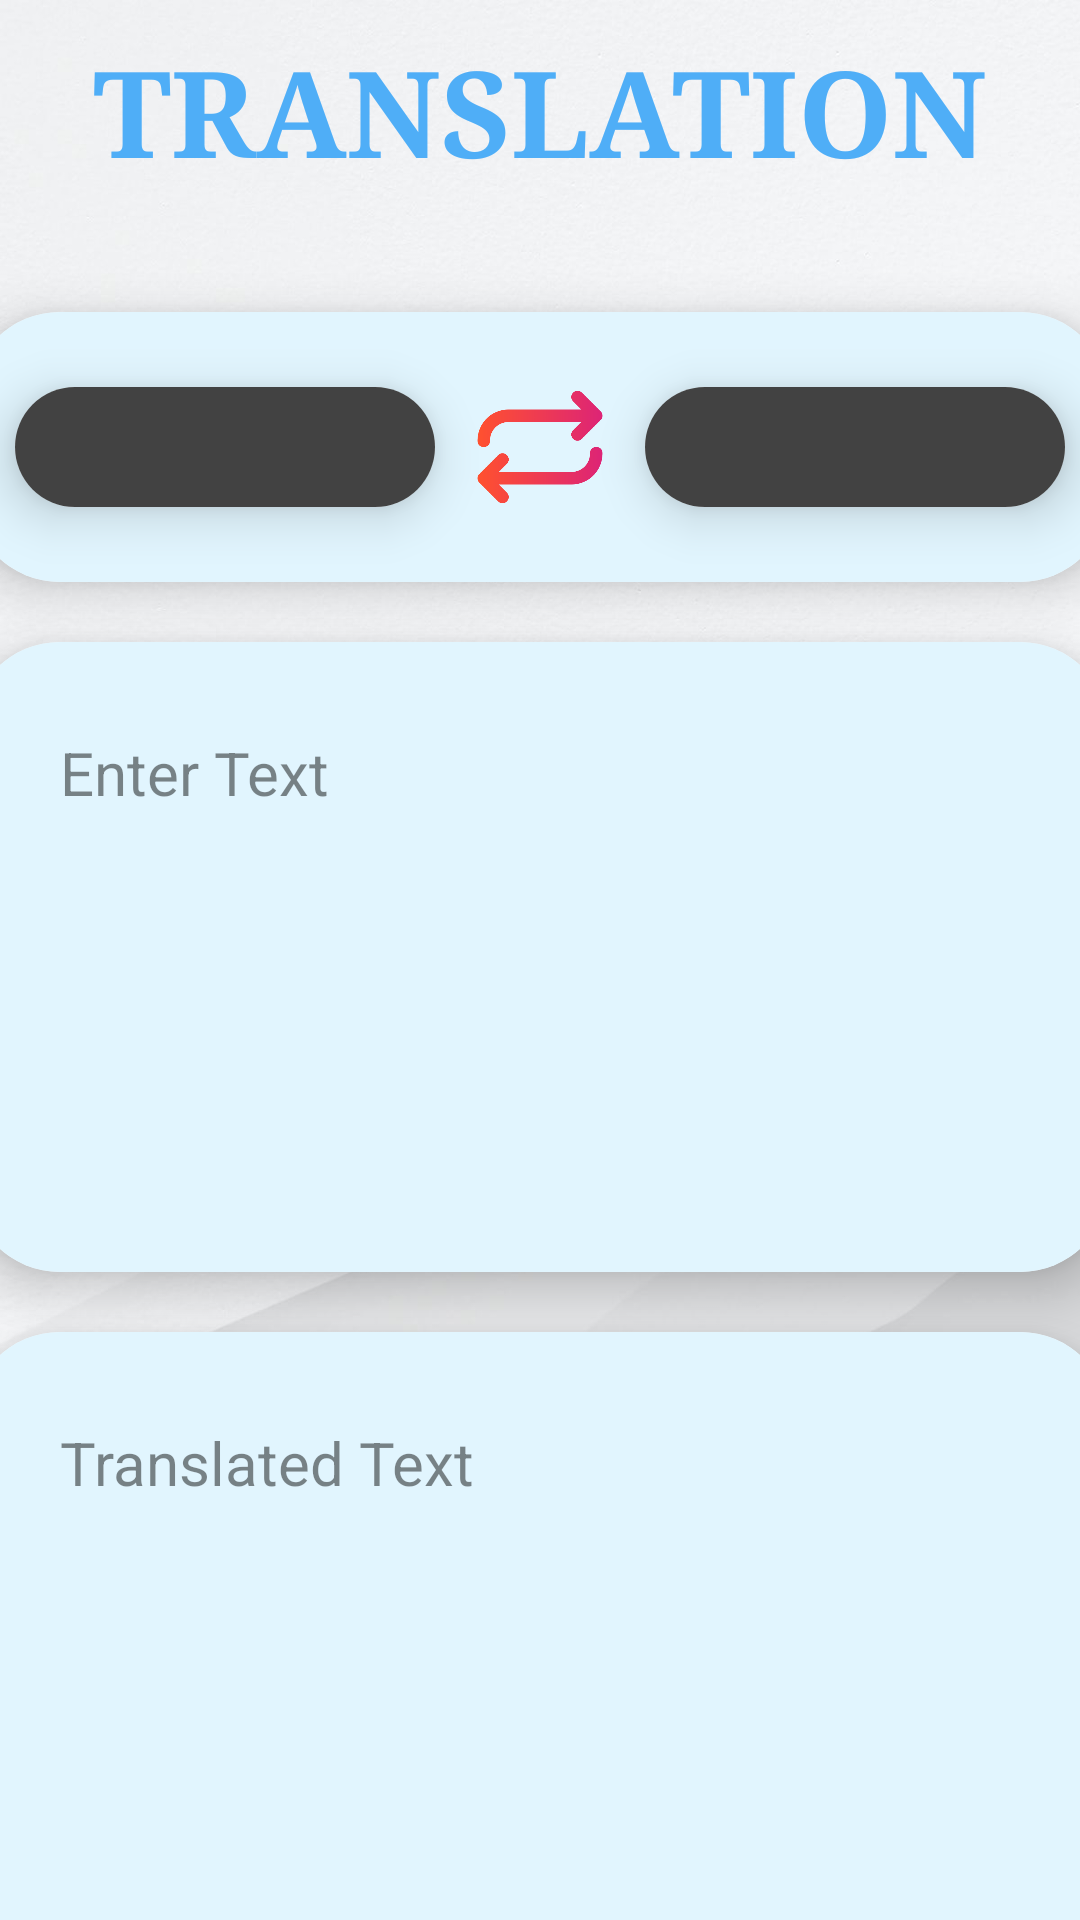

Named icons in this screenshot (1080px x 1920px) and their centers, [x,y]:
loop: [540,447]
